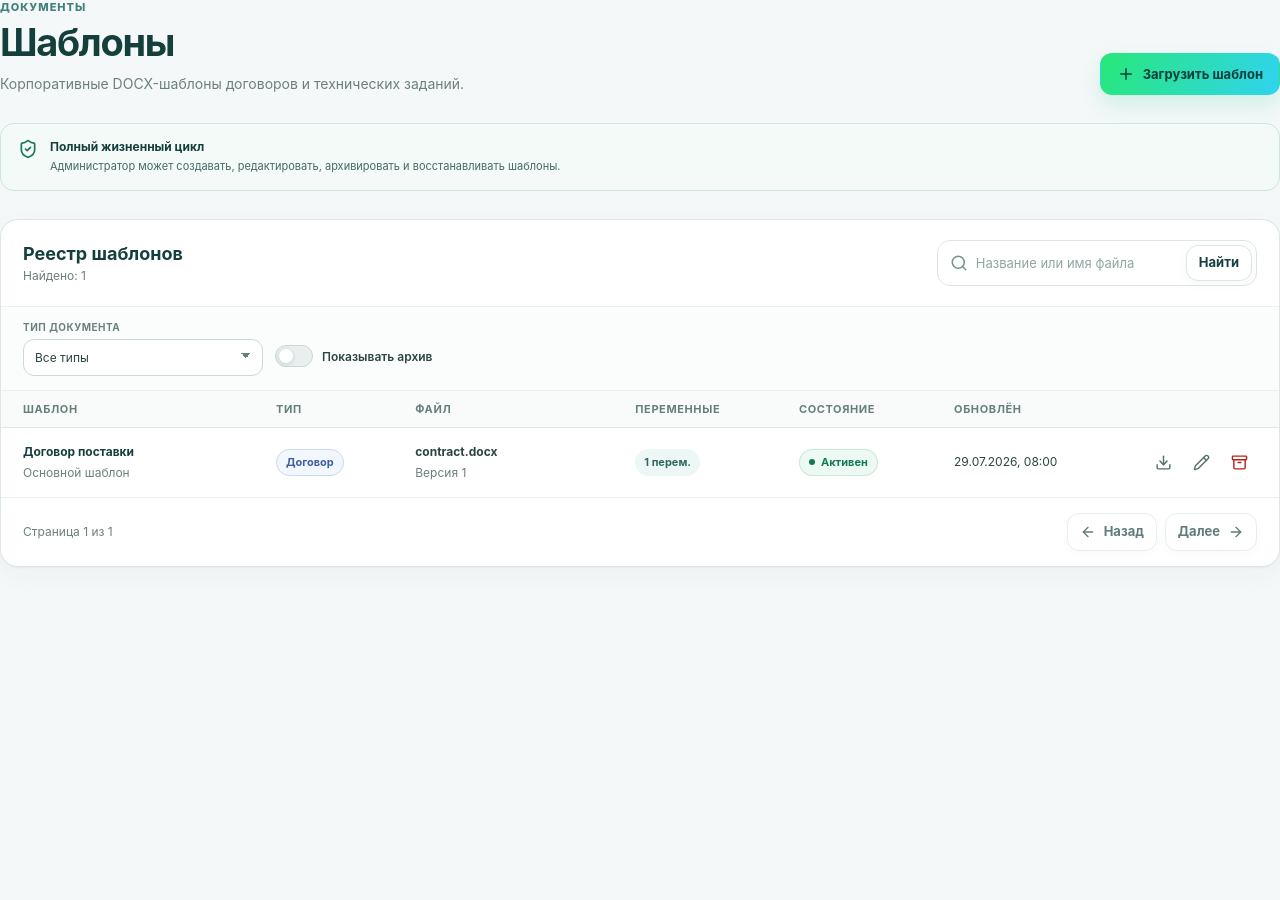
it: TemplatesPage › архивирует шаблон после подтверждения
Click the button named "Архивировать шаблон Договор поставки". click: coordinates (1239, 462)
box: top-left (1221, 444), bottom-right (1257, 480)
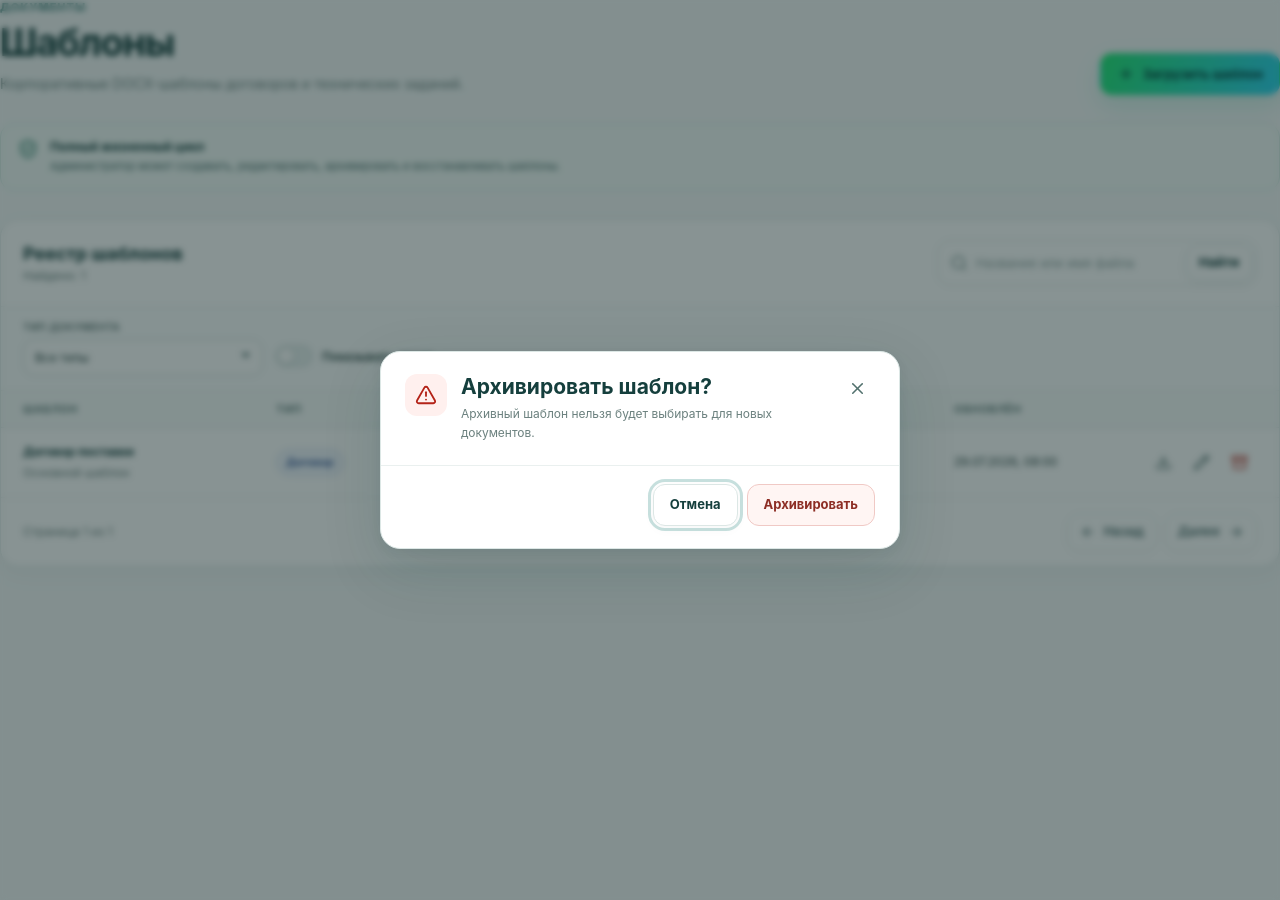
Click the button "Архивировать". click: coordinates (811, 505)
box: top-left (746, 484), bottom-right (875, 526)
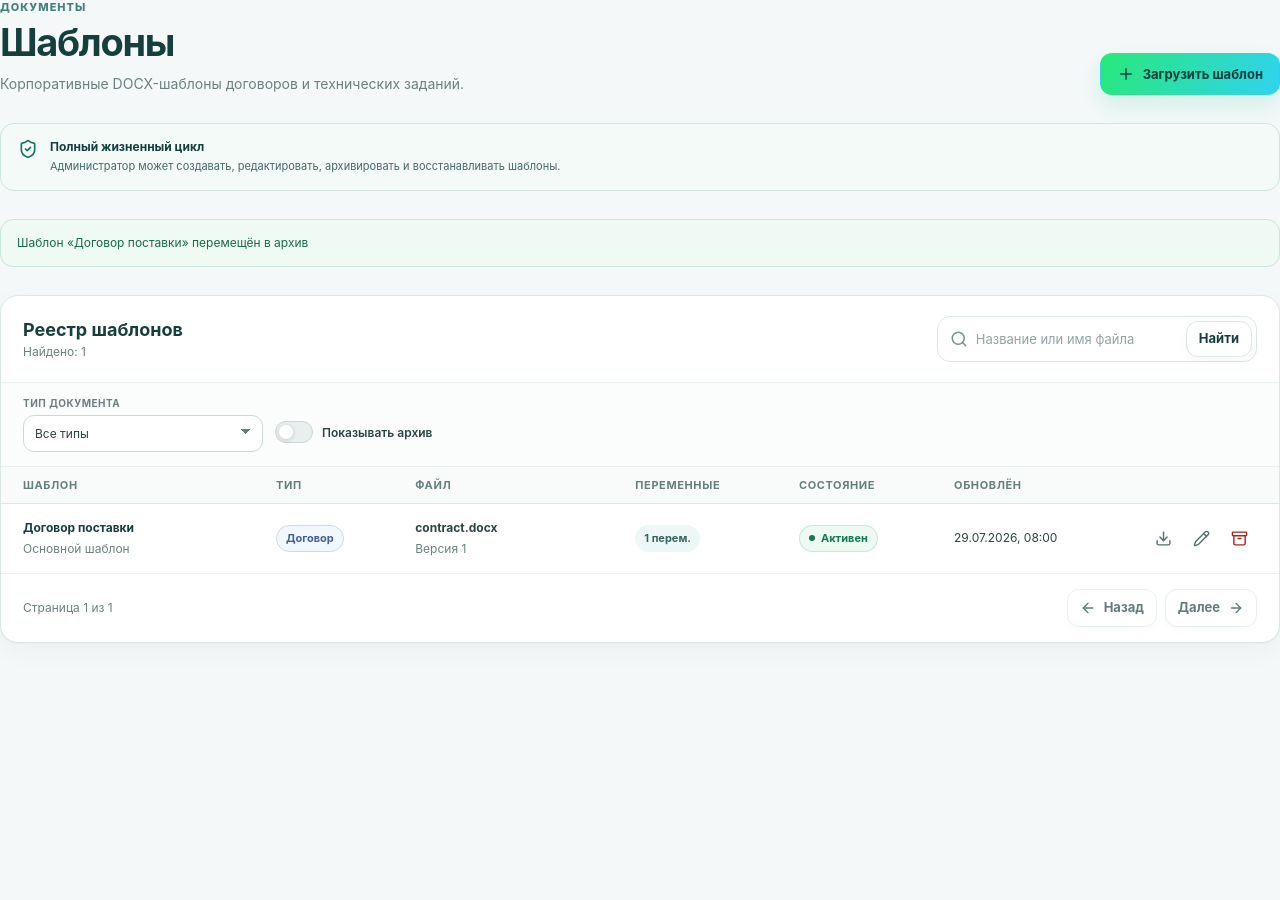
Now the text "Шаблон «Договор поставки» перемещён в архив" is shown, box top-left (0, 219), bottom-right (1279, 267)
